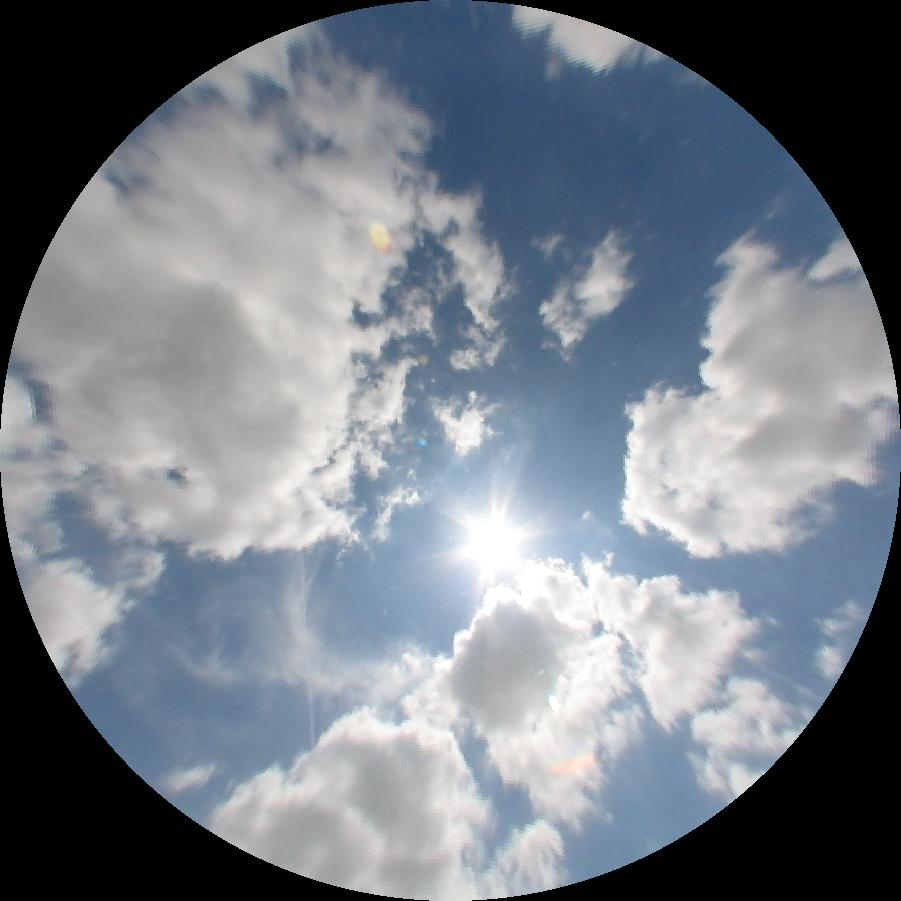contrail young: (301, 551, 314, 747)
sun: (462, 516, 524, 574)
